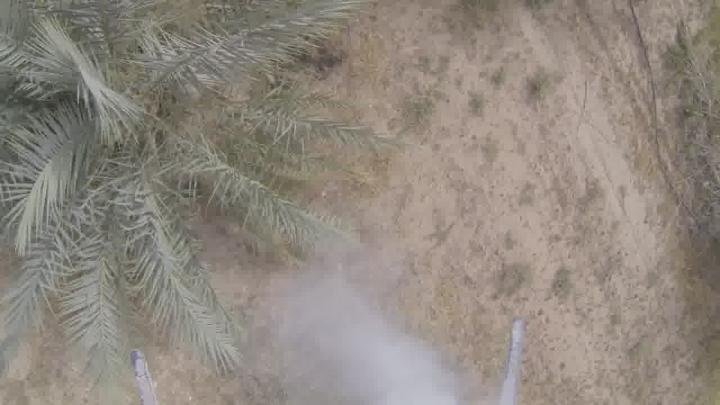Date-Palm-Crown: (0, 0, 246, 290)
